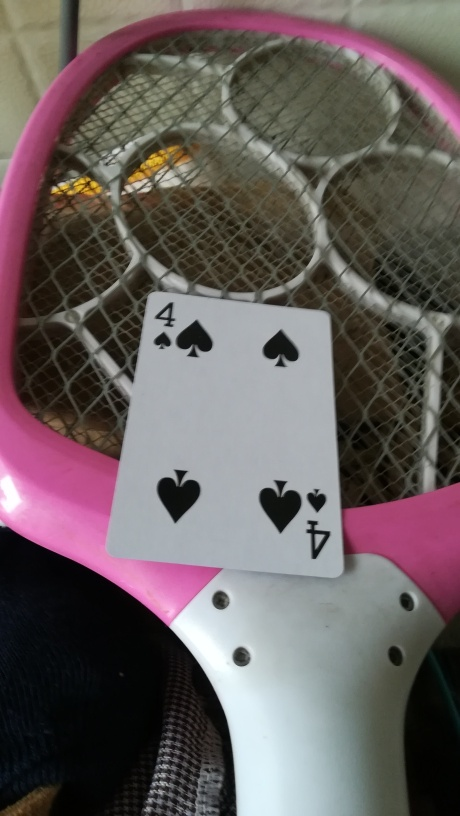ht 4: (105, 289, 346, 580)
